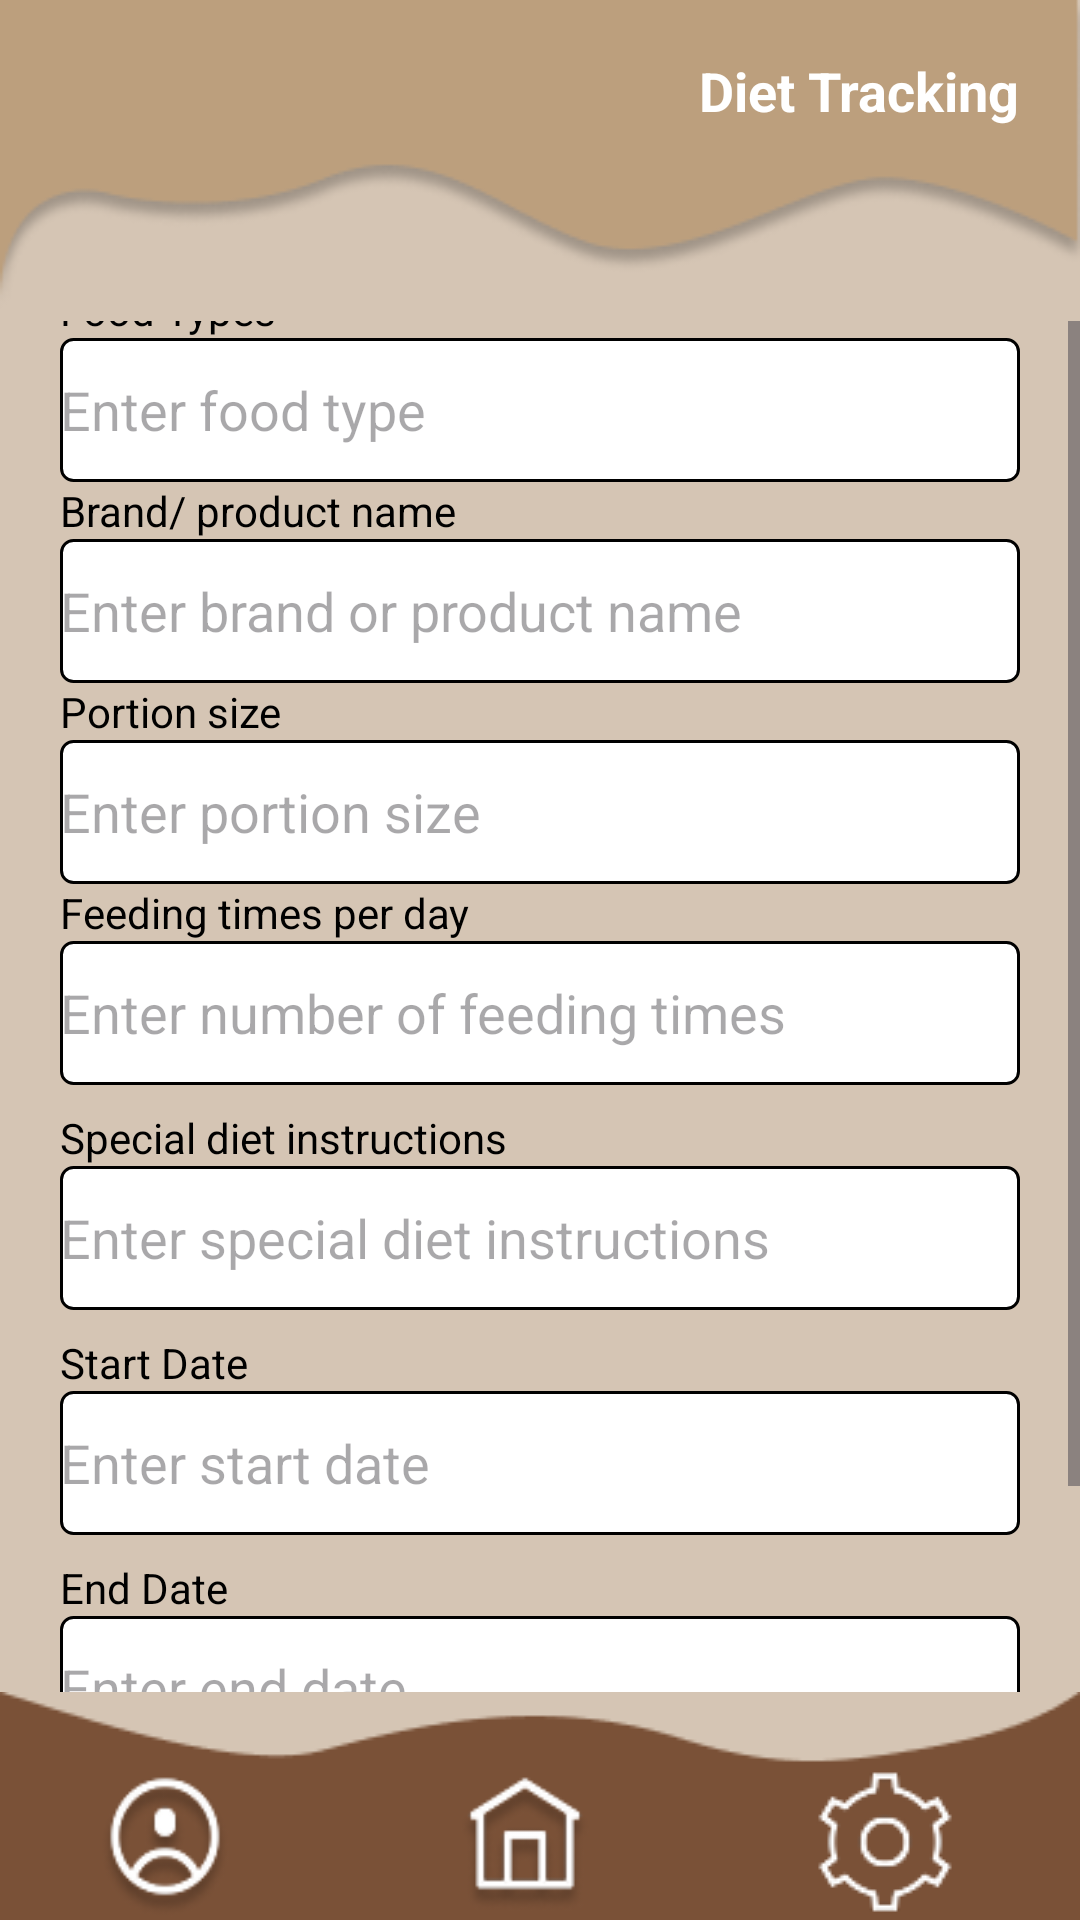

Screen size 1080x1920. Icon name, then its box in pixels as (x1, y1, x2, y2):
Navigate to home screen: (469, 1777, 581, 1890)
Navigate to profile screen: (110, 1777, 220, 1896)
